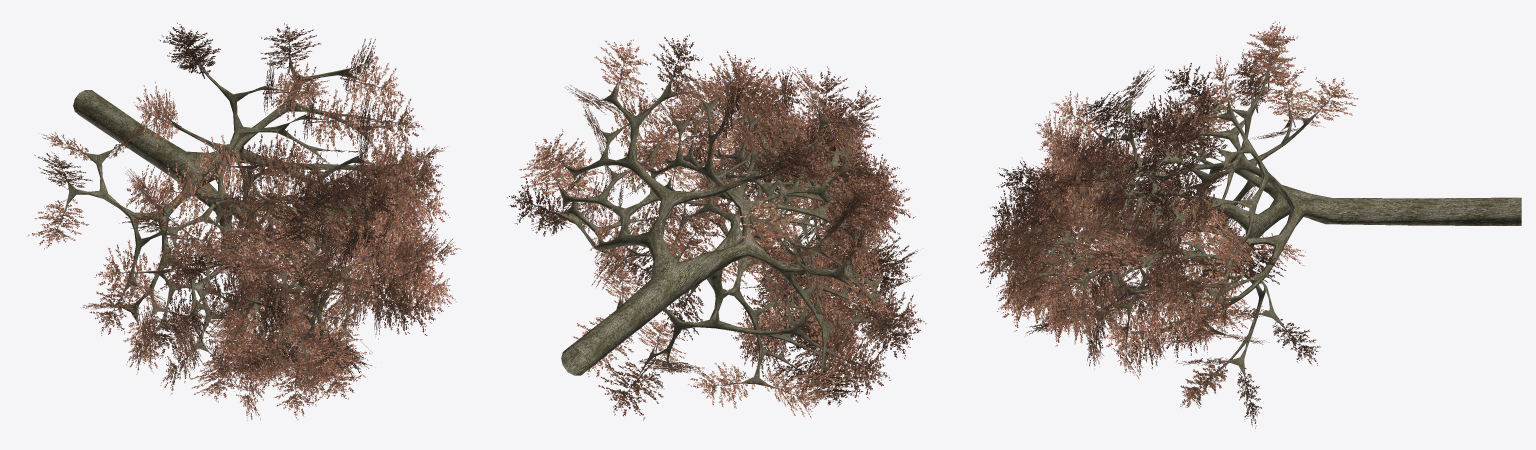
Rendered from Sandbox Tree2.dae.
3 renders of one model, left to right at view 1: azimuth 30°, elevation 25°; view 2: azimuth 150°, elevation 25°; view 3: azimuth 270°, elevation 25°, orthographic. The views are drawn at different scales.
Visible parts, largest first — view 1: group_1, group; view 2: group_1, group; view 3: group_1, group.
Part boxes in pixels (x1,y1,x2,y2): group_1: [27, 23, 460, 420]; group: [63, 53, 411, 374]; group_1: [507, 34, 926, 420]; group: [550, 74, 888, 388]; group_1: [976, 21, 1358, 428]; group: [1023, 63, 1521, 384].
Size of the model in its own units: 15.21 by 13.58 by 17.93.
Materials: 2 (2 with a texture image).
